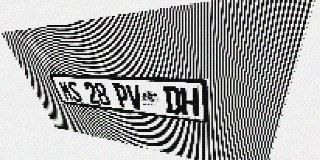2: (82, 82, 101, 105)
8: (93, 82, 111, 106)
D: (163, 86, 182, 115)
H: (180, 87, 199, 117)
M: (57, 80, 75, 101)
P: (112, 83, 131, 108)
S: (66, 81, 84, 102)
V: (125, 84, 144, 110)
